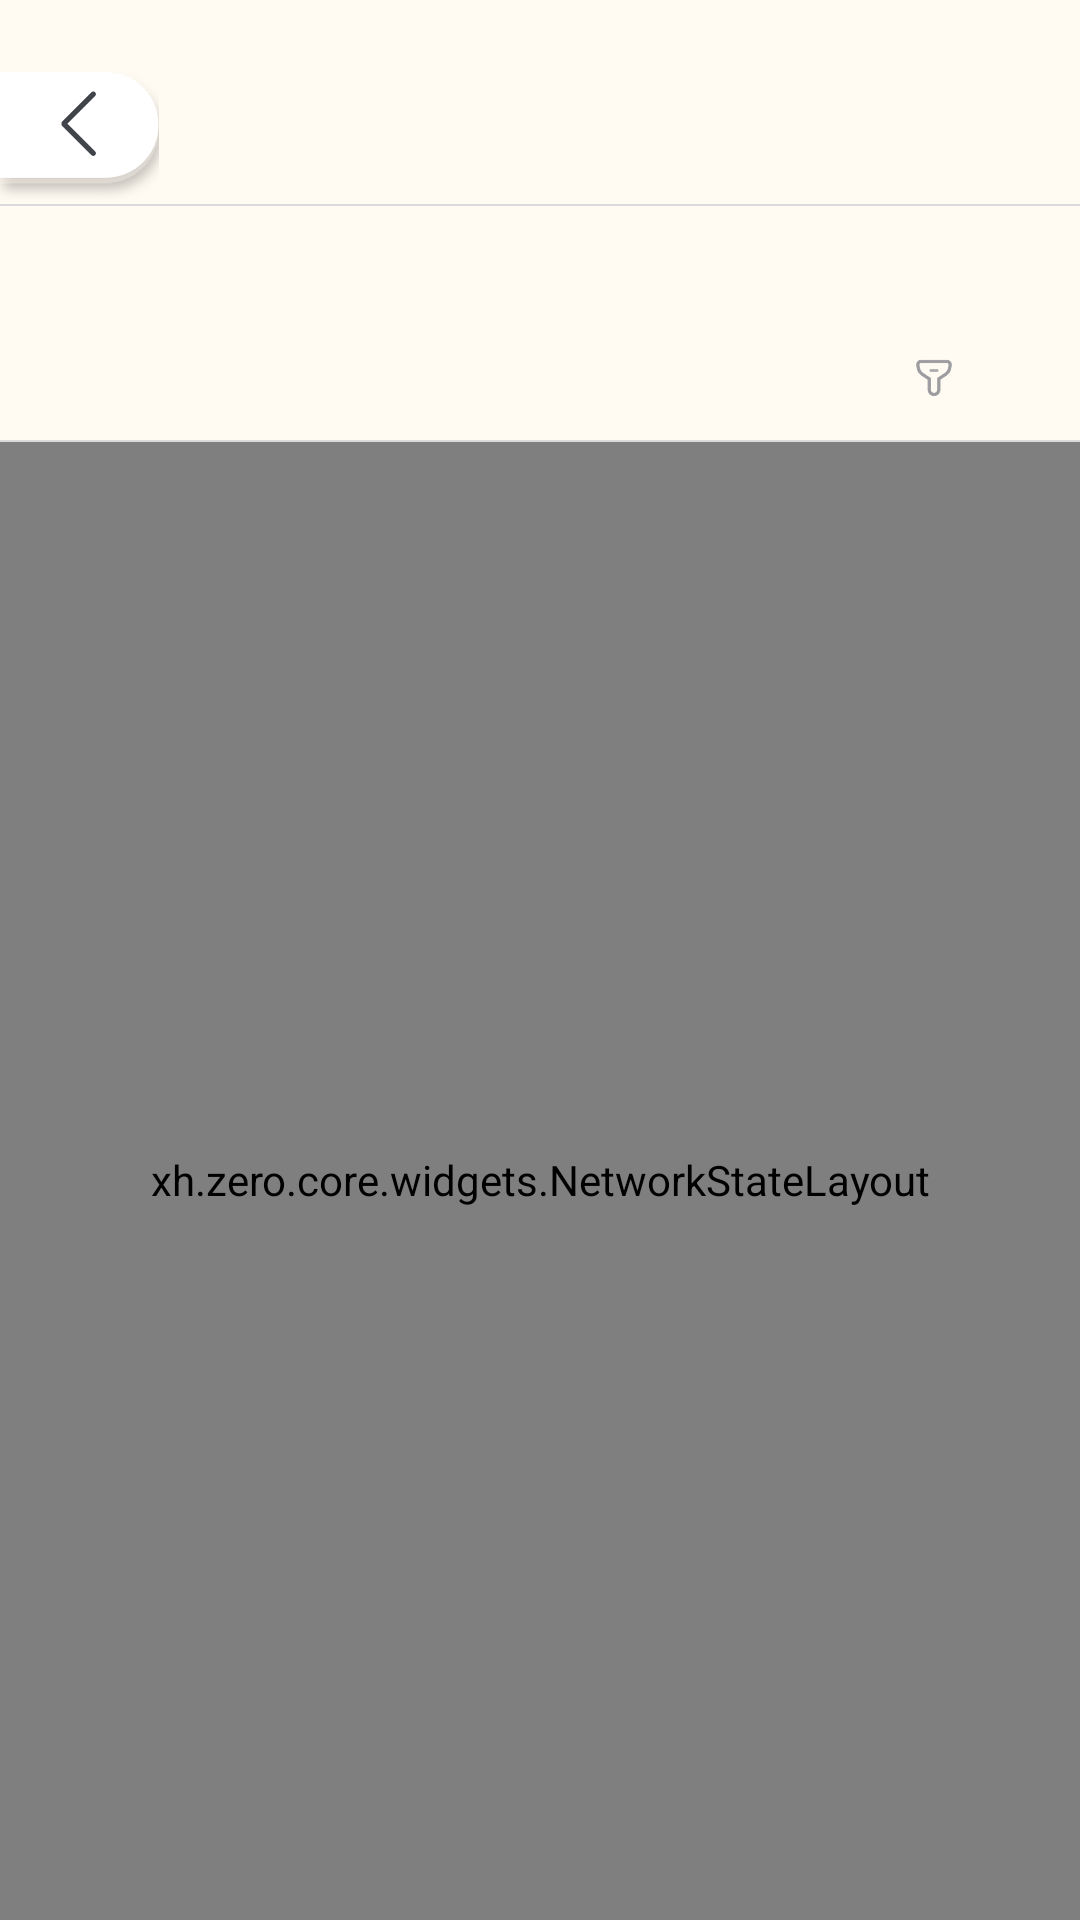

Named icons in this screenshot (1080 × 1920) and their centers, point (x, y):
back: point (79, 134)
